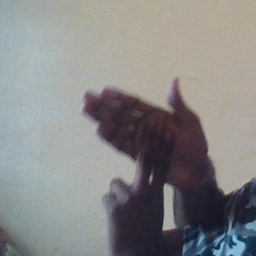N: (76, 76, 198, 230)
